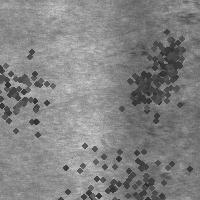rolled-in_scale: (44, 134, 148, 200), (91, 133, 191, 200), (0, 37, 63, 137), (123, 39, 168, 136), (113, 57, 175, 119), (130, 61, 186, 117), (144, 30, 194, 80)
